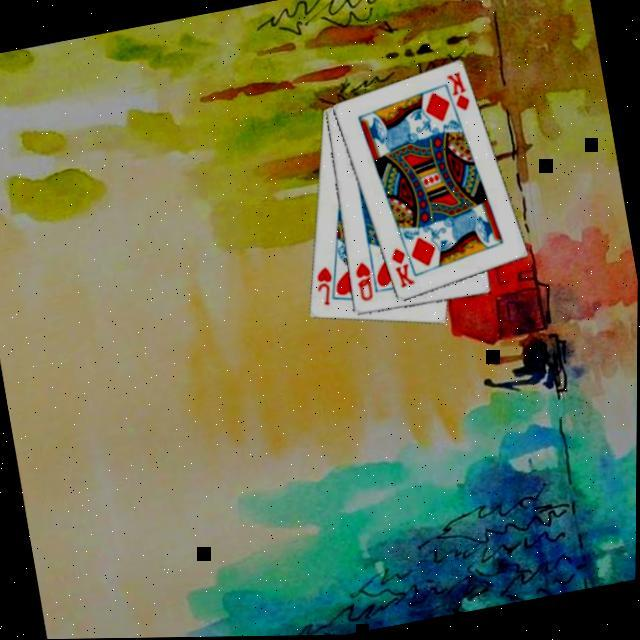JH: (309, 262, 338, 309)
KD: (385, 242, 417, 291), (441, 67, 472, 114)
QH: (349, 257, 376, 304)
